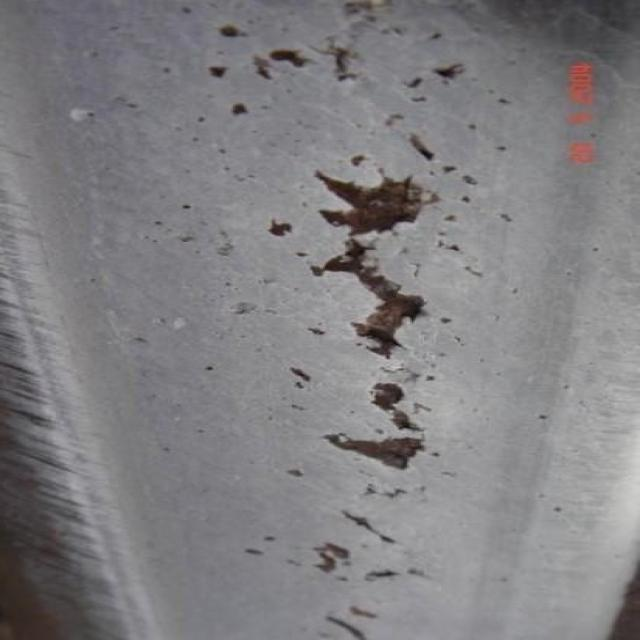broken_rail_medium: (311, 164, 428, 362), (312, 431, 434, 476), (364, 377, 426, 435), (338, 507, 398, 549), (314, 540, 354, 574), (265, 46, 315, 72), (329, 41, 359, 84), (323, 616, 373, 640), (352, 482, 410, 502), (404, 131, 438, 164), (429, 64, 469, 85), (267, 212, 293, 240), (252, 55, 274, 86), (344, 602, 378, 622), (286, 364, 312, 382), (207, 64, 230, 83), (357, 571, 398, 581), (220, 24, 244, 41), (227, 103, 251, 119), (281, 465, 305, 481), (404, 564, 424, 580), (243, 547, 264, 561), (351, 152, 367, 168), (462, 175, 479, 190), (309, 325, 326, 340), (259, 534, 279, 546), (407, 76, 424, 90), (439, 165, 461, 175), (447, 241, 461, 255), (442, 211, 458, 223), (289, 381, 307, 391), (460, 194, 472, 206)
